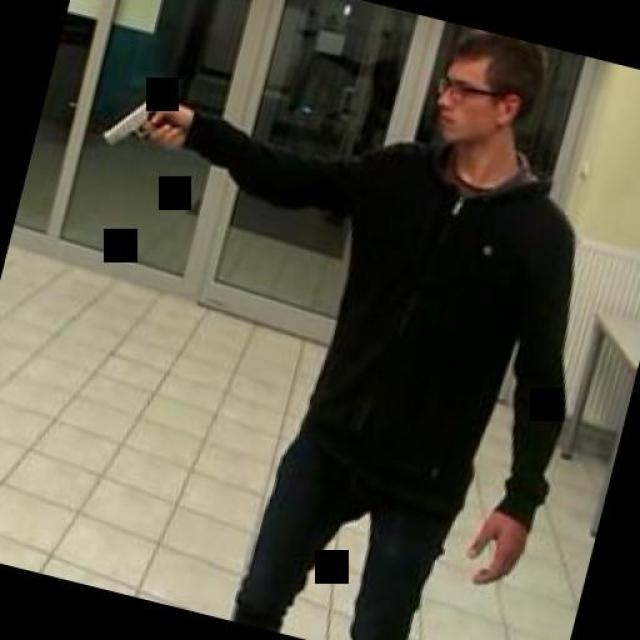gun: (98, 79, 184, 159)
